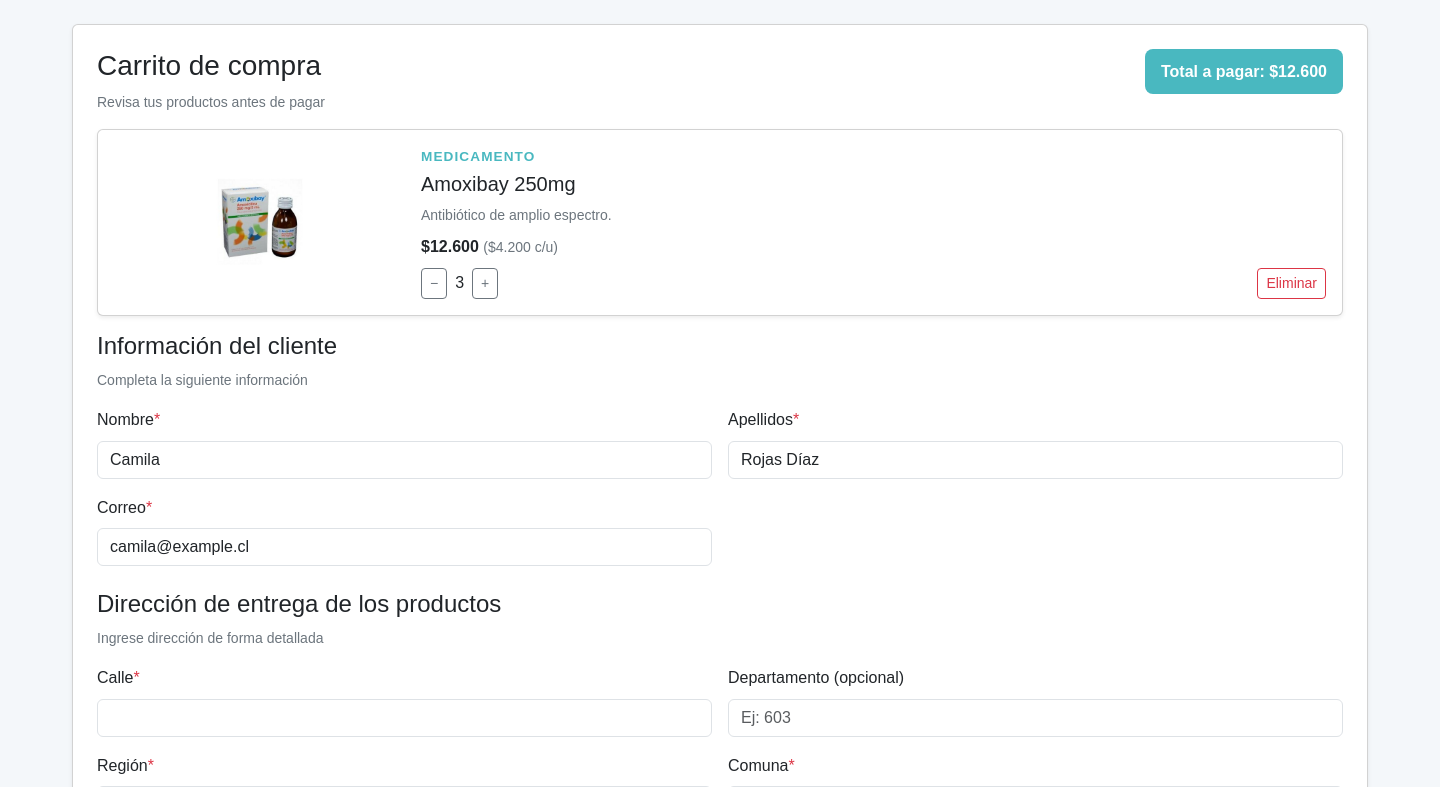
Carrito › calcula el total con los precios que entrega la API y permite cambiar las cantidades
expect the text "Total a pagar: $12.600" is shown: met, box [1145,49,1343,94]
Click the button named "Agregar una unidad de Amoxibay 250mg": (485, 283) [472,268,498,299]
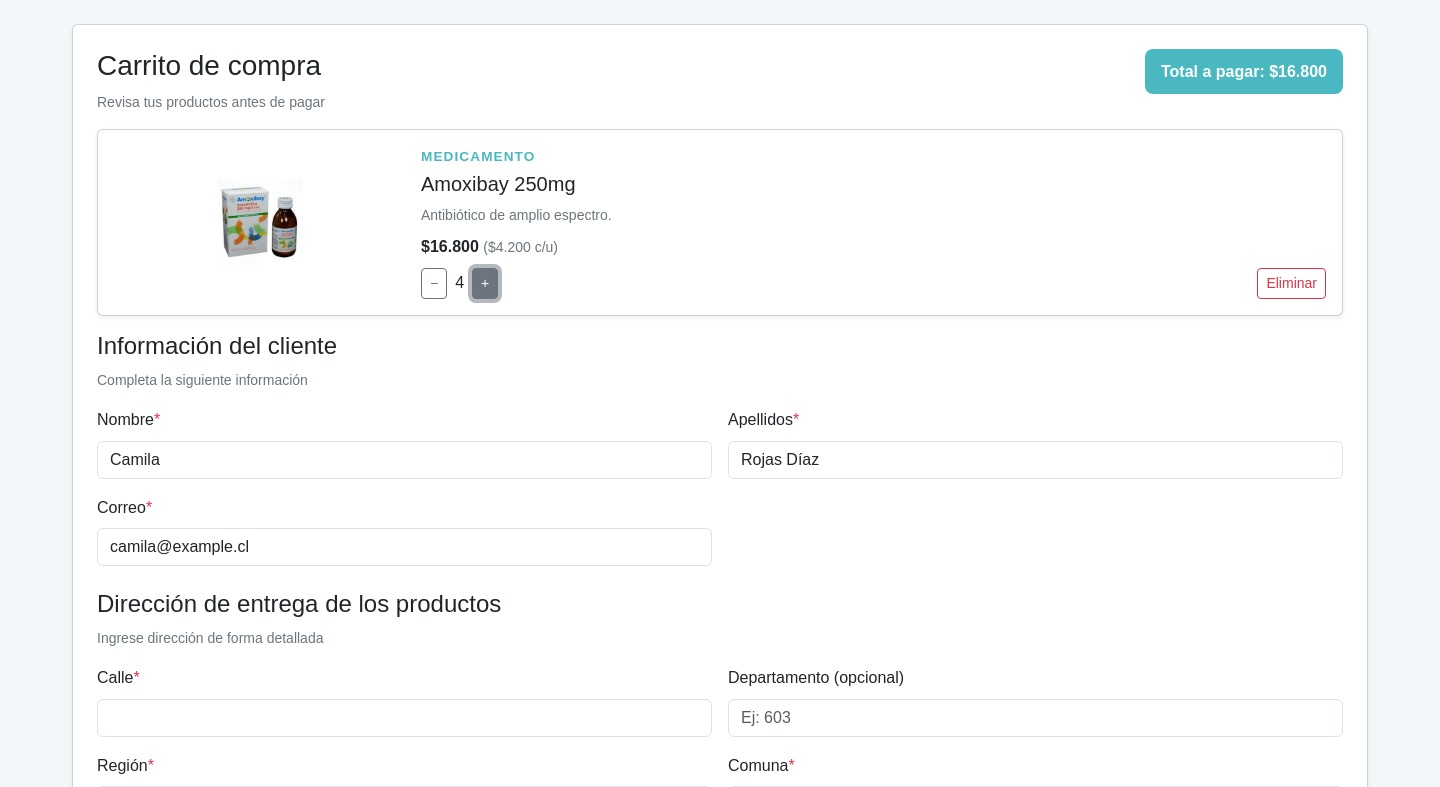
expect the text "Total a pagar: $16.800" is shown: met, box [1145,49,1343,94]
Click the button named "Quitar una unidad de Amoxibay 250mg": (434, 283) [421,268,447,299]
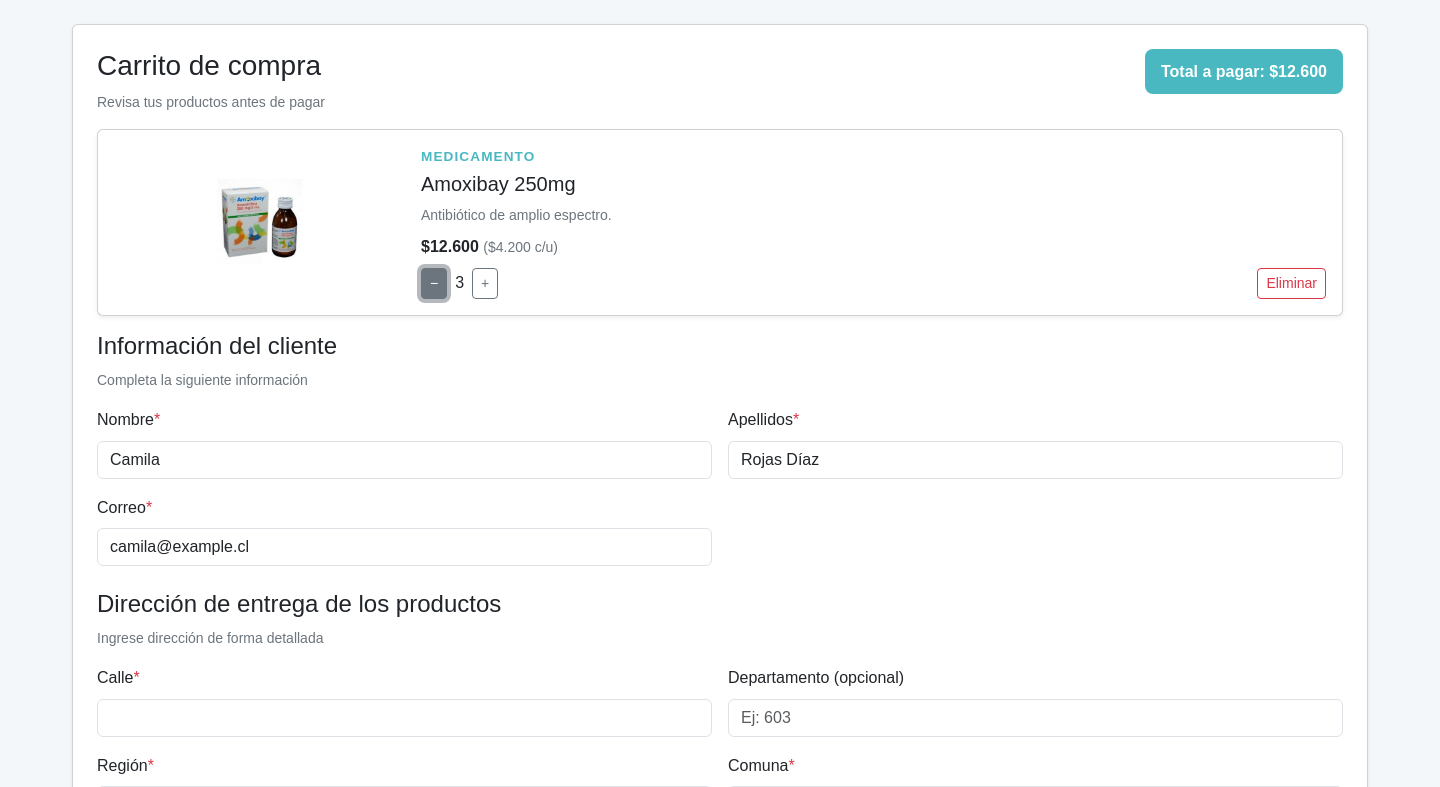
Click the button "Eliminar": (1292, 283) [1257,268,1326,299]
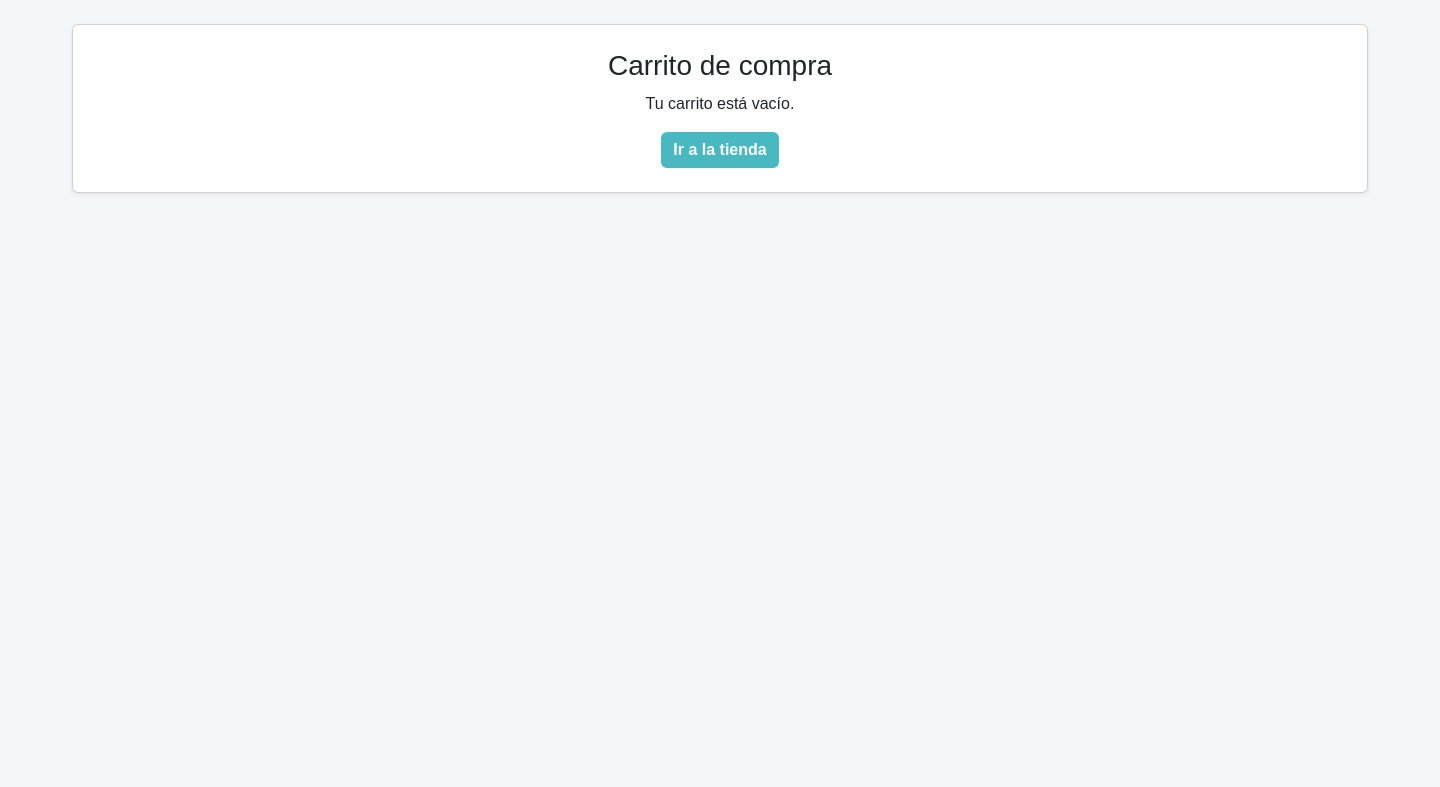
expect the text "Tu carrito está vacío." is shown: met, box [646,95,794,112]
